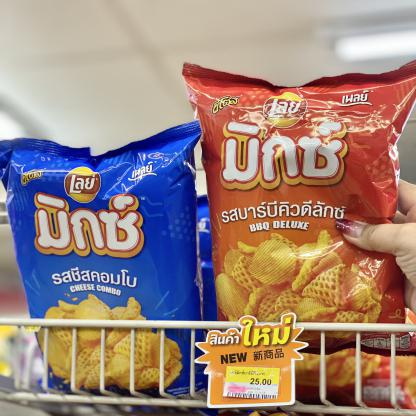potatochip: (176, 59, 416, 364), (0, 115, 212, 404)
